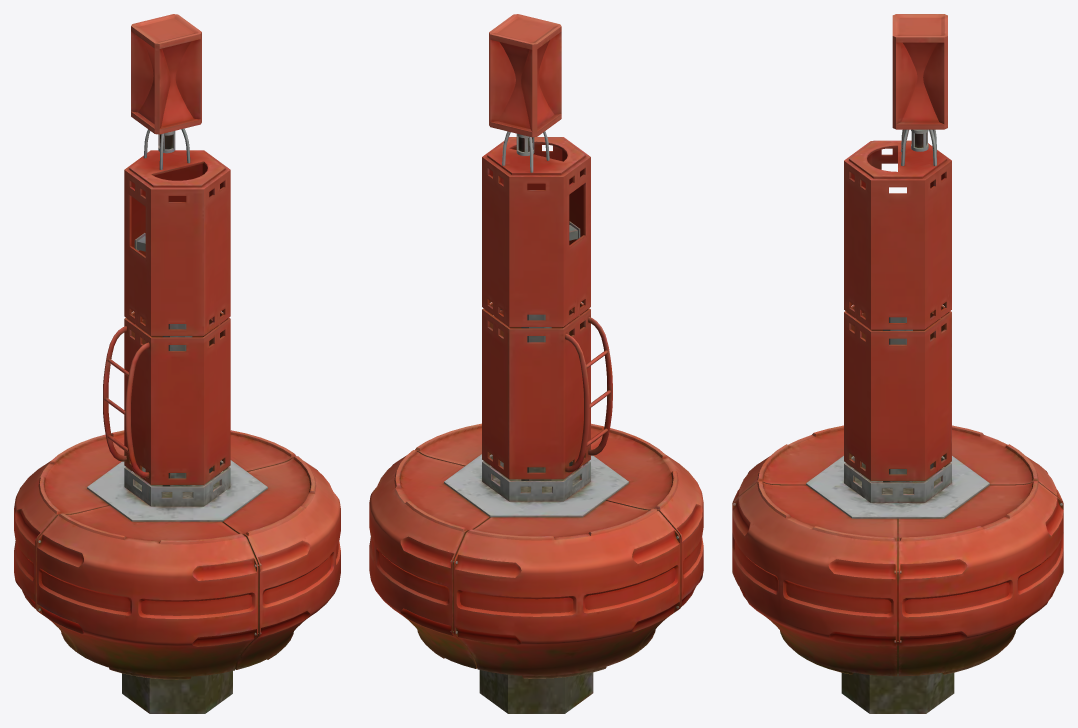
Rendered from marker.glb.
The picture shows the model from 3 angles, left to right: view 1: azimuth 30°, elevation 25°; view 2: azimuth 150°, elevation 25°; view 3: azimuth 270°, elevation 25°; orthographic projection. The views are drawn at different scales.
Visible parts, largest first — view 1: lateral_sea_marker; view 2: lateral_sea_marker; view 3: lateral_sea_marker.
Part boxes in pixels (x1=…): lateral_sea_marker: x1=14, y1=14, x2=340, y2=713; lateral_sea_marker: x1=369, y1=14, x2=703, y2=713; lateral_sea_marker: x1=732, y1=14, x2=1063, y2=713.
Bounding box in the file's own units: 3 × 6.84 × 3.
Materials: 1 (1 with a texture image).
